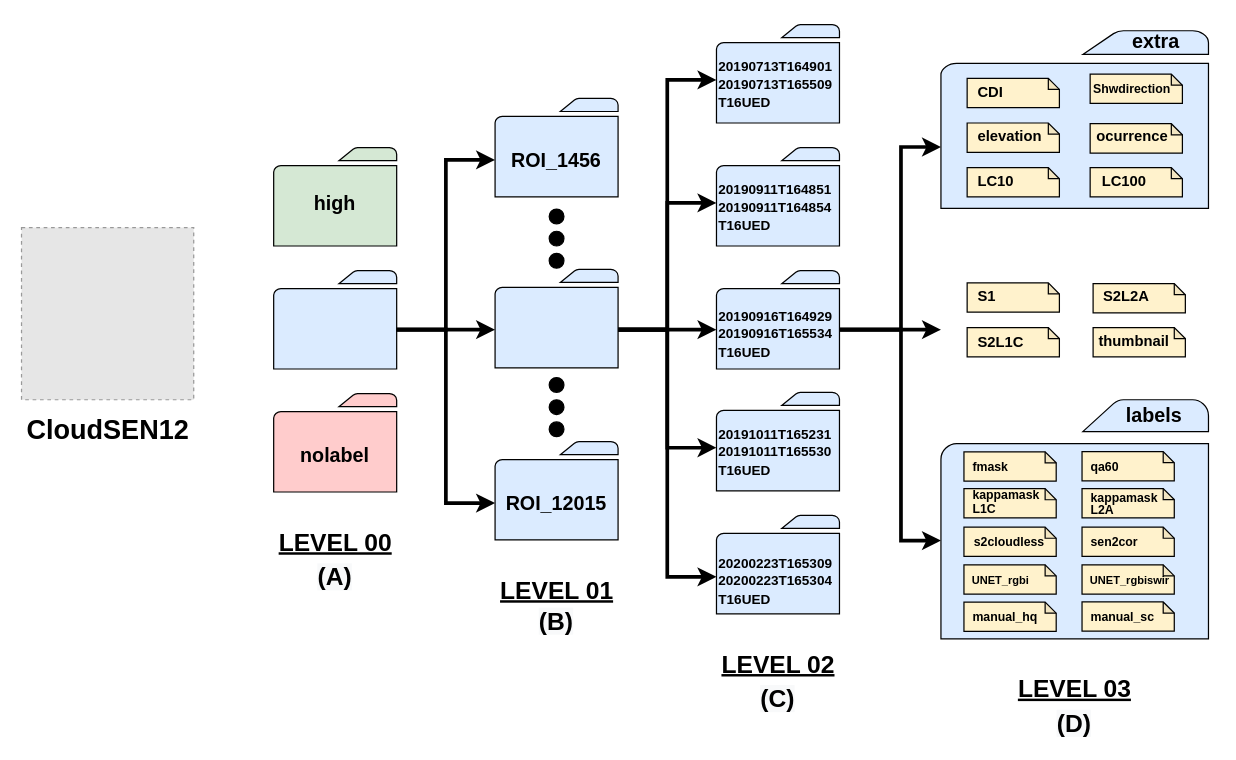
Some shapes in this 1236 by 760 pixel diagram are drawn without their labels. Grey dashed boxes stand in for pictures. Each missing label, with the centre of its shape:
"ROI_ 6983" belongs at pixel 556 318.
"scribble" belongs at pixel 334 319.
